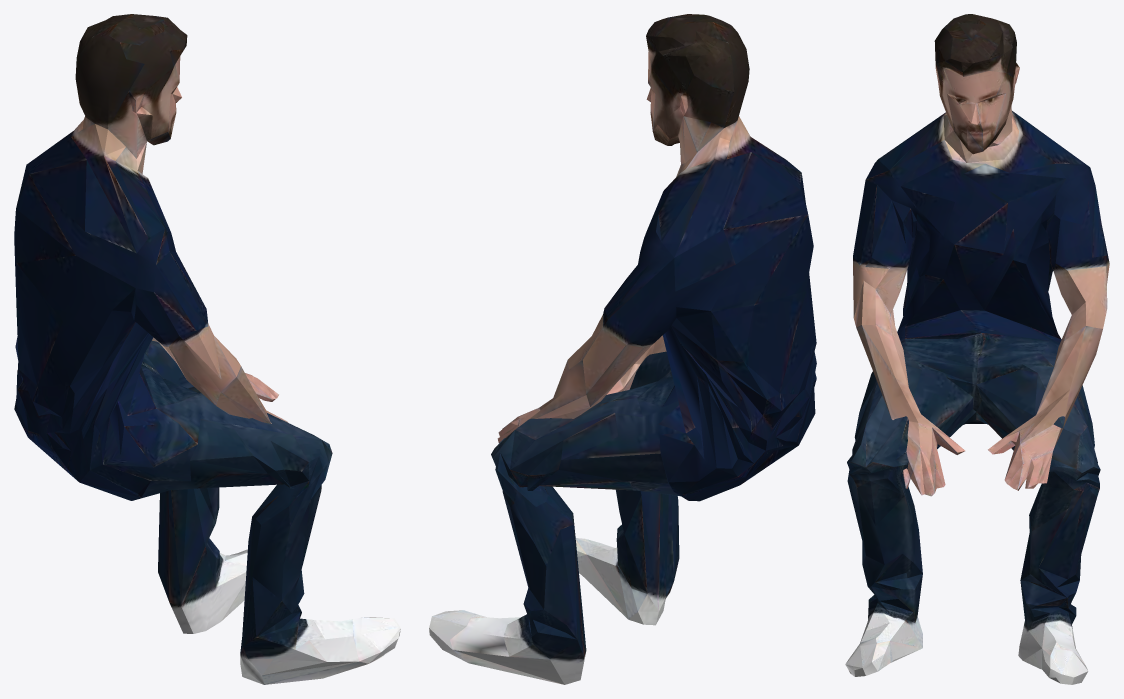
File: crowd-fan-1.glb
3 views of the same model, side by side, from view 1: azimuth 30°, elevation 25°; view 2: azimuth 150°, elevation 25°; view 3: azimuth 270°, elevation 25° (orthographic). The views are drawn at different scales.
Parts seen in each view (by area): view 1: char1; view 2: char1; view 3: char1.
Part boxes in pixels (left/top/right/bottom): char1: left=14, top=14, right=400, bottom=684; char1: left=429, top=14, right=816, bottom=684; char1: left=845, top=14, right=1109, bottom=684.
Bounding box in the file's own units: 0.6938 × 1.41 × 0.566.
Materials: 1 (1 with a texture image).
